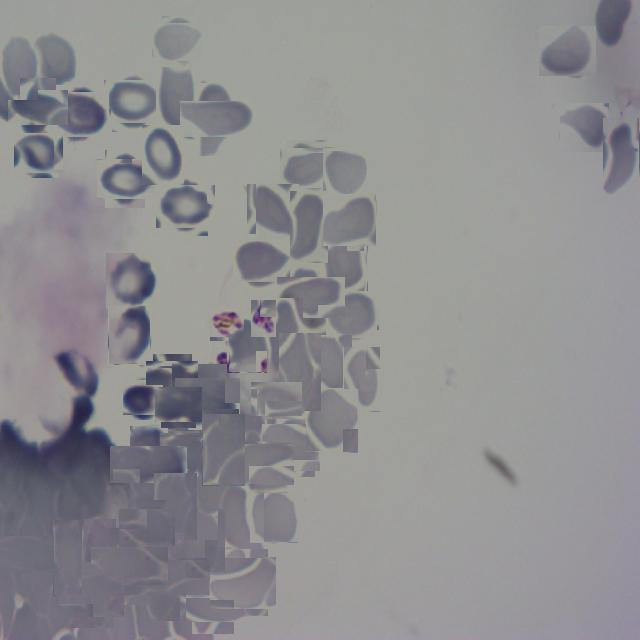leukocyte: (134, 546, 197, 608), (0, 523, 60, 587), (212, 552, 272, 612), (305, 388, 358, 452), (100, 538, 158, 596), (120, 436, 178, 493), (279, 333, 321, 411), (176, 508, 225, 572), (202, 414, 245, 486), (223, 483, 264, 558), (246, 184, 299, 242), (156, 60, 196, 136), (189, 92, 244, 147), (284, 270, 338, 326), (186, 573, 240, 628), (603, 118, 639, 200), (52, 88, 106, 142), (540, 24, 594, 78), (64, 568, 118, 622), (154, 473, 197, 540), (188, 453, 229, 523), (237, 436, 290, 490), (265, 421, 318, 474), (106, 253, 156, 309), (323, 194, 376, 246), (290, 191, 328, 263), (160, 180, 212, 232), (108, 76, 160, 128), (182, 371, 234, 423), (53, 343, 103, 397), (269, 298, 303, 377), (142, 125, 184, 185), (0, 34, 38, 100), (236, 236, 286, 286), (328, 290, 378, 340), (108, 306, 150, 365), (343, 347, 380, 412), (101, 154, 150, 203), (560, 103, 609, 152), (250, 493, 298, 543), (322, 147, 367, 199), (283, 144, 331, 192), (320, 243, 368, 291), (124, 504, 172, 552), (309, 335, 352, 388), (15, 84, 62, 132), (53, 520, 82, 596), (228, 320, 268, 373), (16, 131, 61, 176), (155, 19, 199, 64), (150, 358, 195, 402), (84, 519, 116, 580), (160, 432, 204, 476), (38, 34, 75, 86), (255, 378, 298, 421), (158, 383, 200, 425), (125, 382, 162, 418)
ring: (208, 304, 242, 338), (250, 300, 276, 338)
